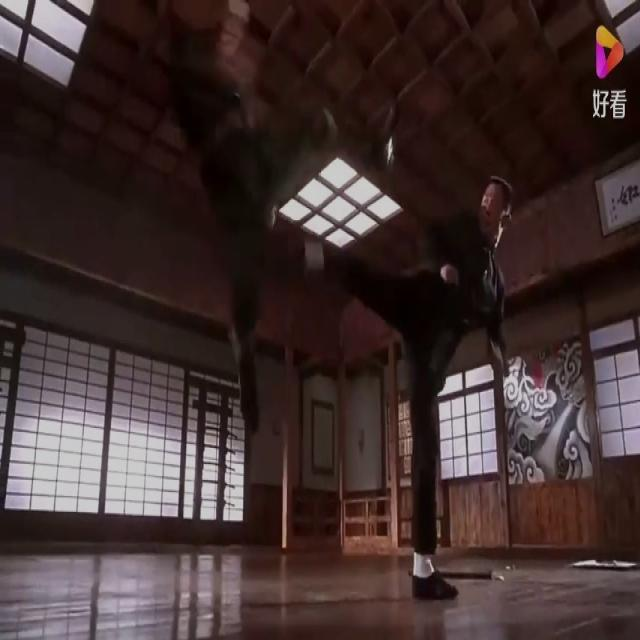fight: (161, 0, 511, 602)
